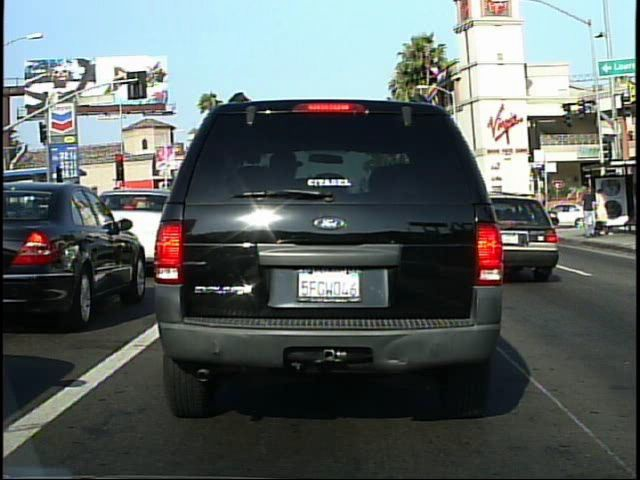person: (578, 186, 599, 238), (595, 185, 612, 237)
